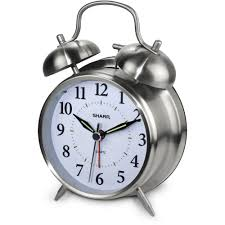alarm_clock: (38, 1, 186, 214), (38, 1, 184, 214), (38, 1, 184, 209)
